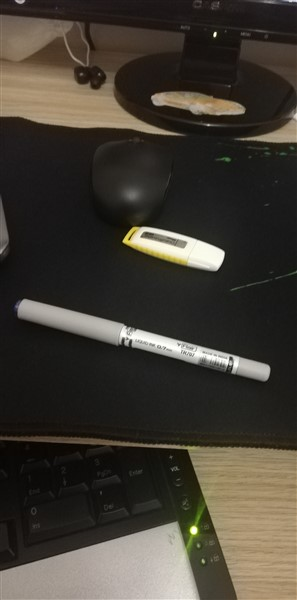flash disk: (118, 227, 232, 276)
klavye: (1, 433, 244, 598)
mouse: (87, 130, 185, 227)
pilot kalem: (13, 292, 275, 388)
